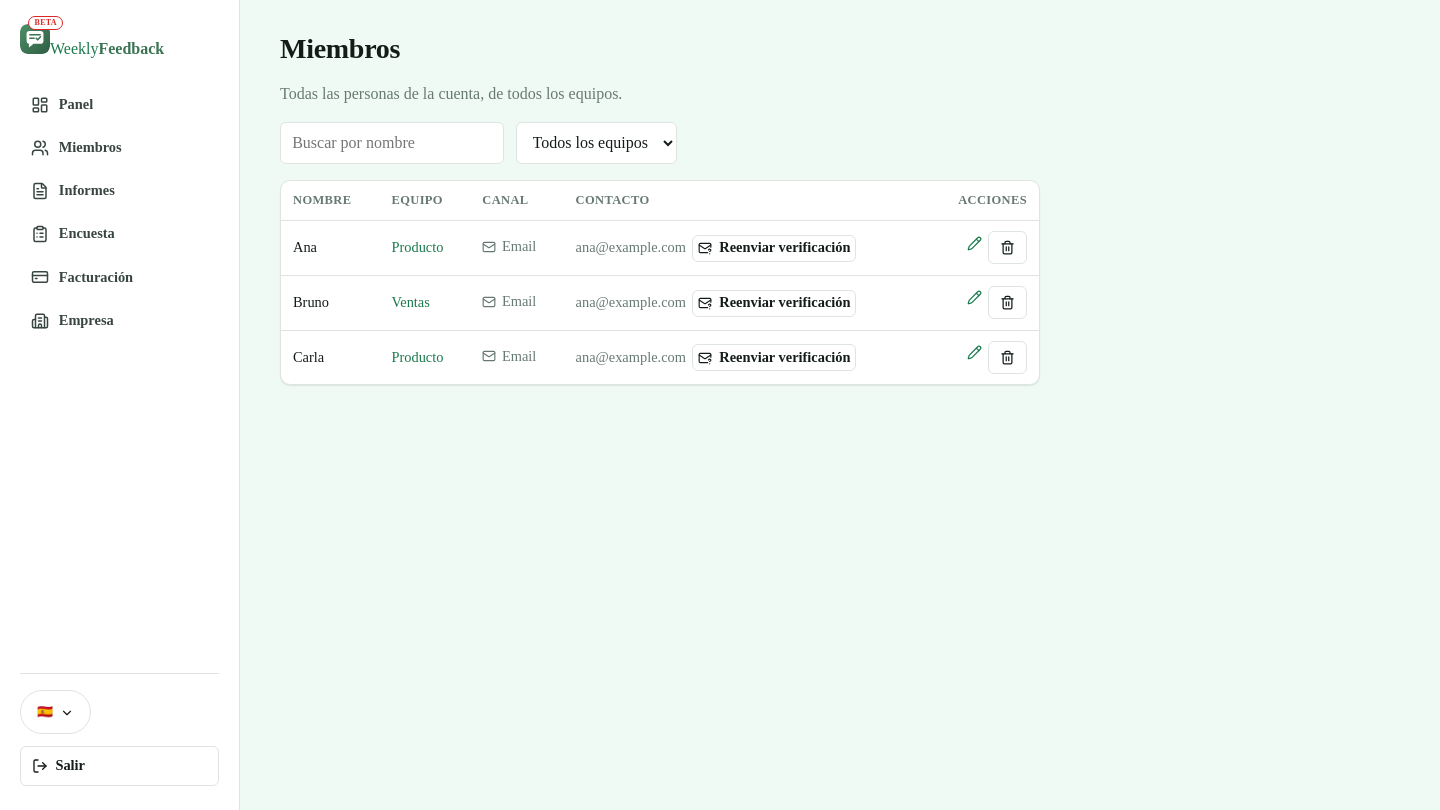
Test: AllMembersPage › filtro por equipo: solo muestra los miembros de ese equipo, con opciones deduplicadas
The width and height of the screenshot is (1440, 810).
Check: the text "Bruno" is shown, box x1=281 y1=276 x2=380 y2=331
Step 1. Select "Producto" in the dropdown showing "Todos los equipos" → (597, 143), box x1=516 y1=122 x2=677 y2=164
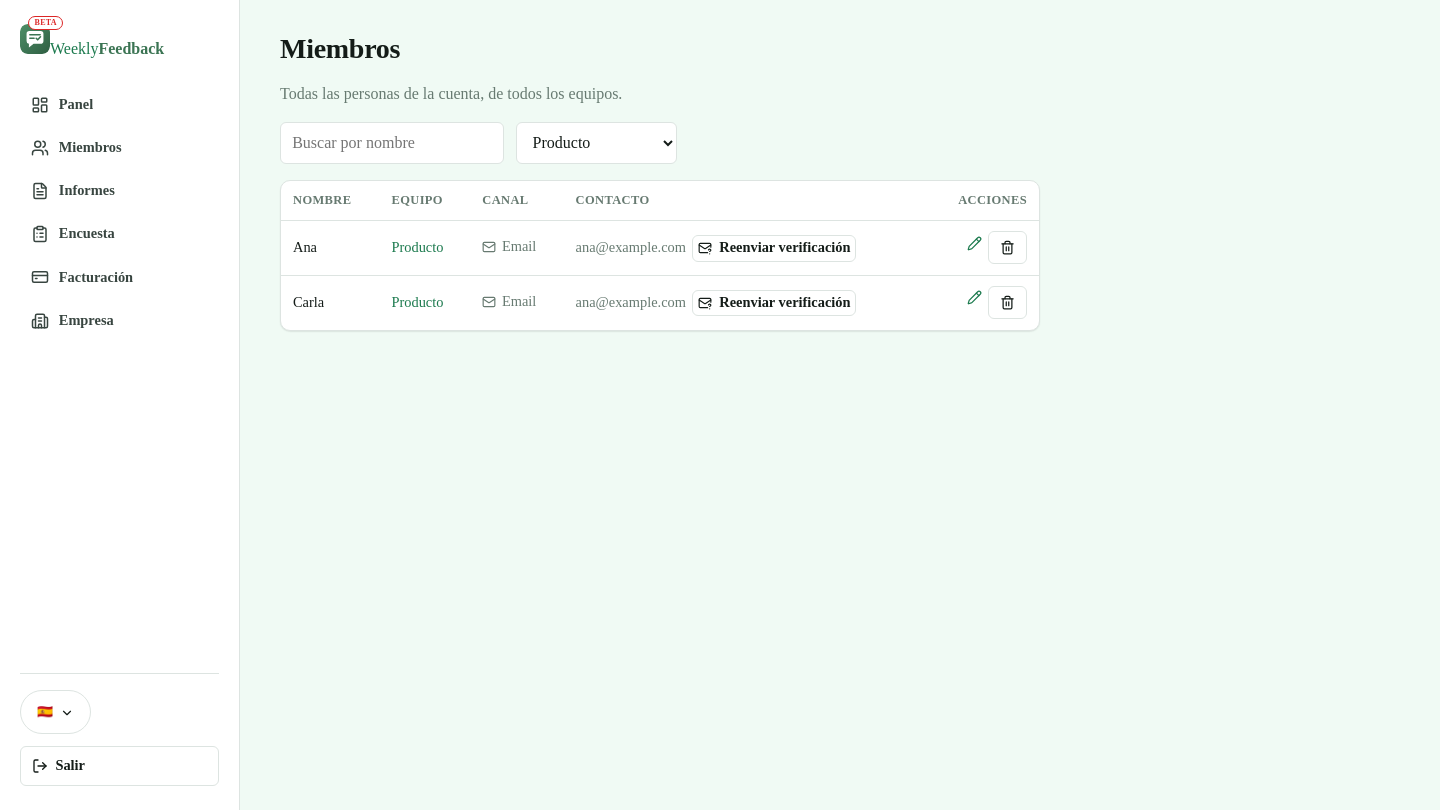
Check: the text "Ana" is shown, box x1=281 y1=221 x2=380 y2=276
Check: the text "Bruno" is gone
